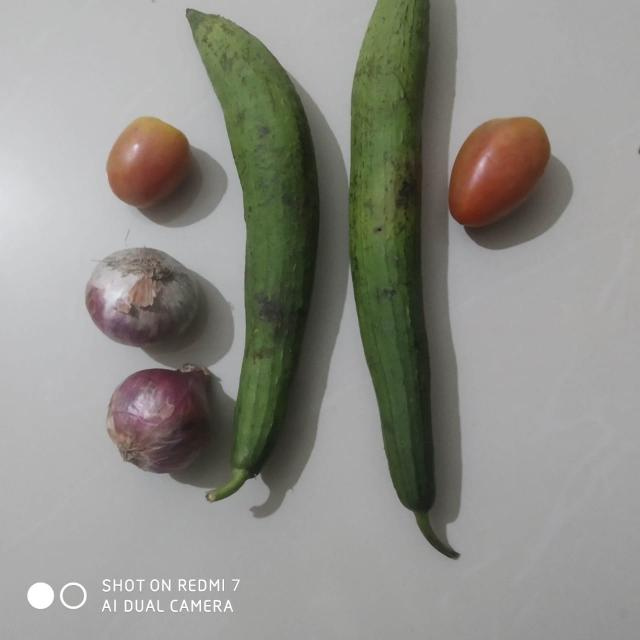Organik: (345, 0, 457, 566), (215, 4, 336, 507), (65, 242, 213, 354), (446, 104, 562, 244), (105, 361, 221, 478), (94, 113, 198, 212)
